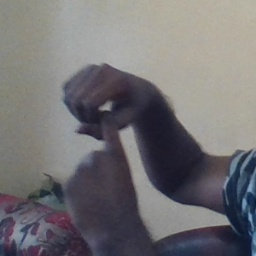Q: (53, 60, 156, 211)
